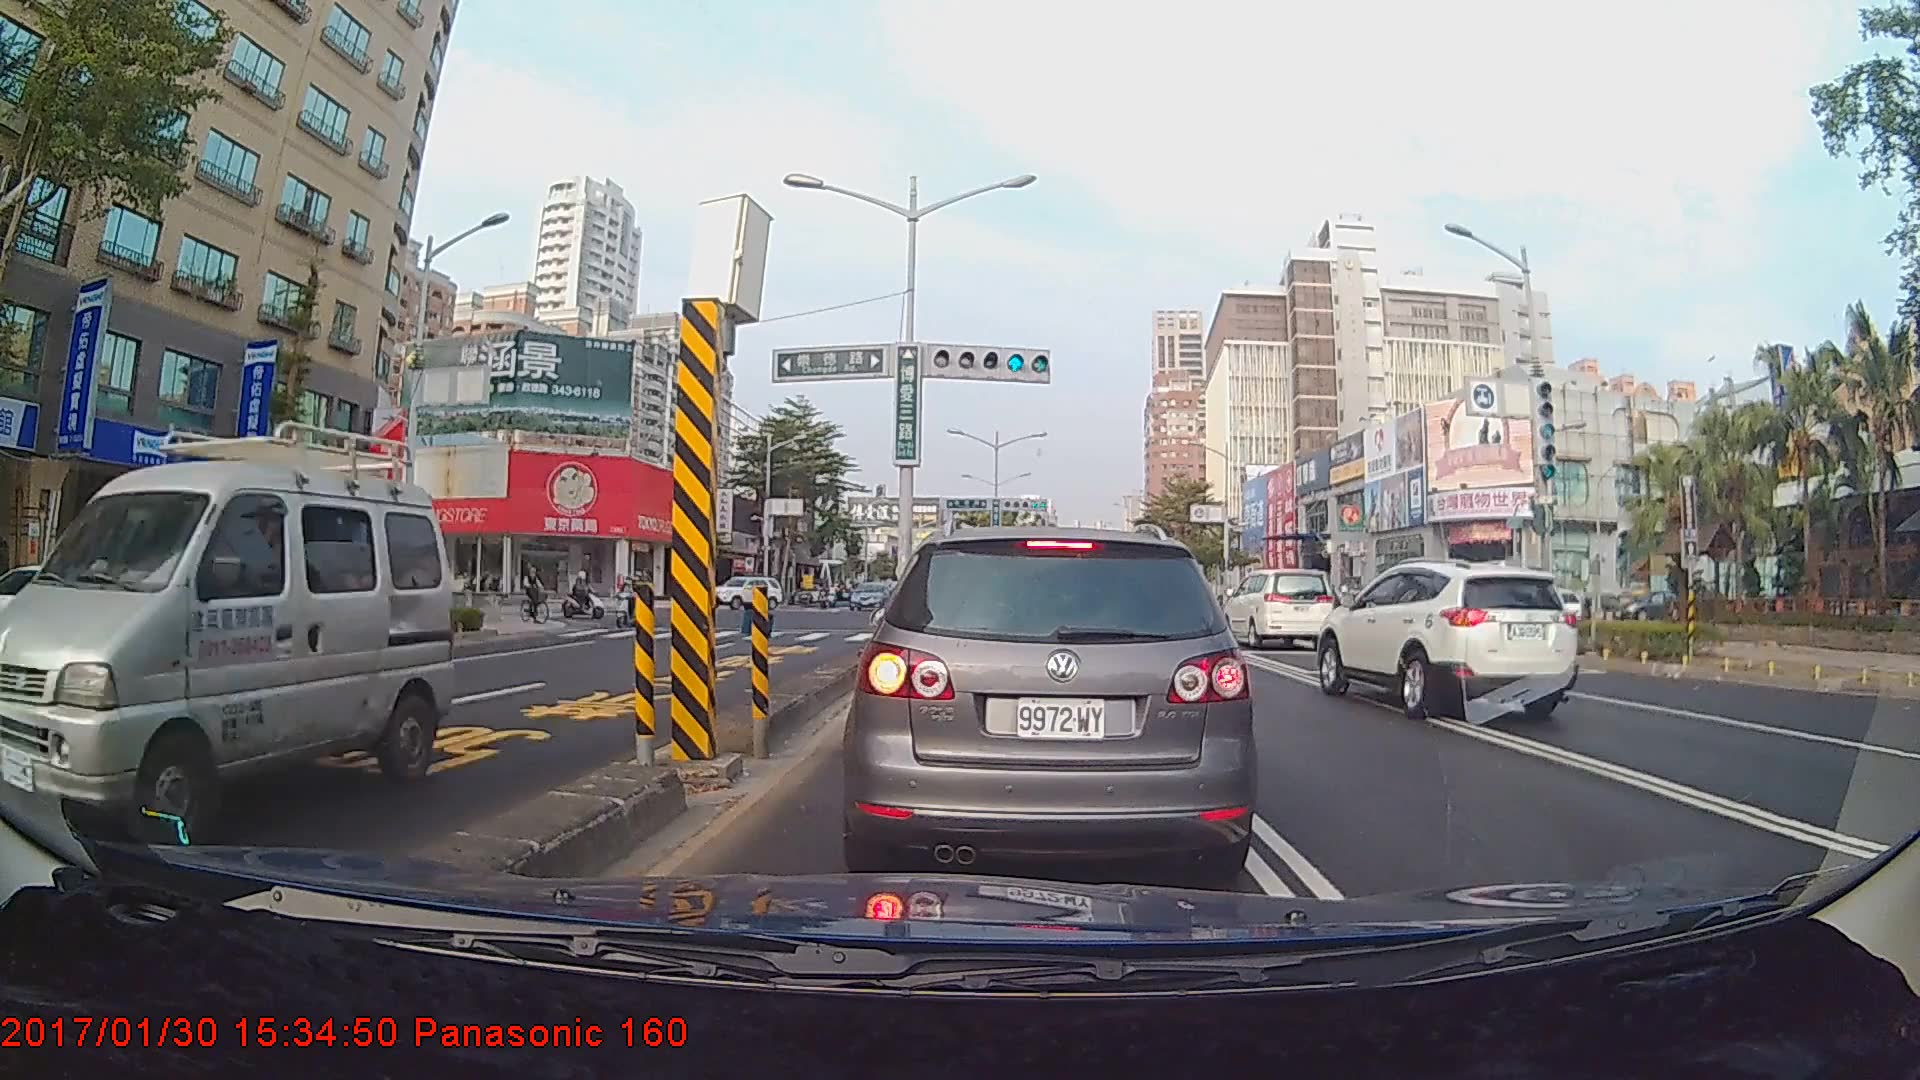rider: (562, 568, 614, 625), (518, 559, 553, 629)
vehicle: (0, 419, 455, 846), (853, 522, 1255, 876), (1315, 559, 1580, 717), (1216, 566, 1336, 650), (850, 581, 890, 612)
